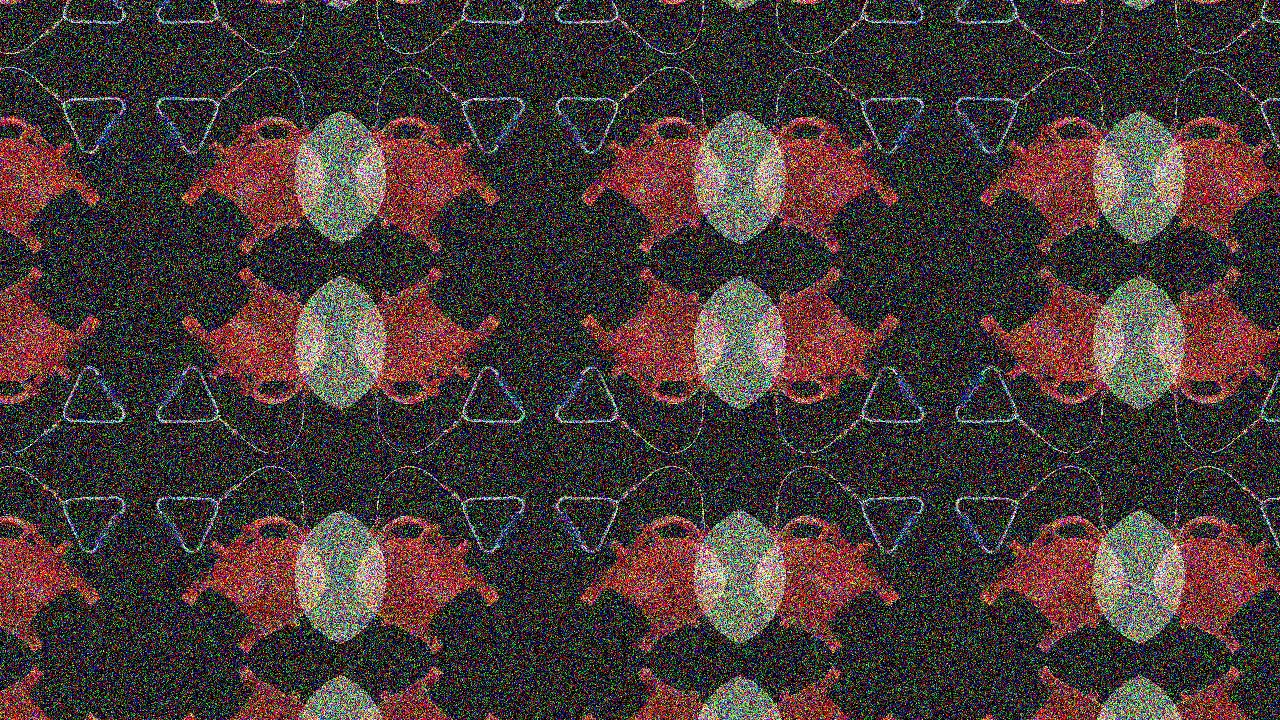chock: (179, 115, 325, 255), (355, 115, 501, 255), (579, 115, 725, 255), (755, 115, 901, 255), (979, 115, 1125, 255), (179, 265, 325, 405), (355, 265, 501, 405), (579, 265, 725, 405), (755, 265, 901, 405), (979, 265, 1125, 405), (179, 515, 325, 655), (355, 515, 501, 655), (579, 515, 725, 655), (755, 515, 901, 655), (979, 515, 1125, 655), (1155, 115, 1280, 255), (1155, 265, 1280, 405), (1155, 515, 1280, 655), (0, 115, 101, 255), (0, 265, 101, 405), (0, 515, 101, 655), (179, 665, 325, 720), (355, 665, 501, 720), (579, 665, 725, 720), (755, 665, 901, 720), (979, 665, 1125, 720), (1155, 665, 1280, 720), (0, 665, 101, 720)
